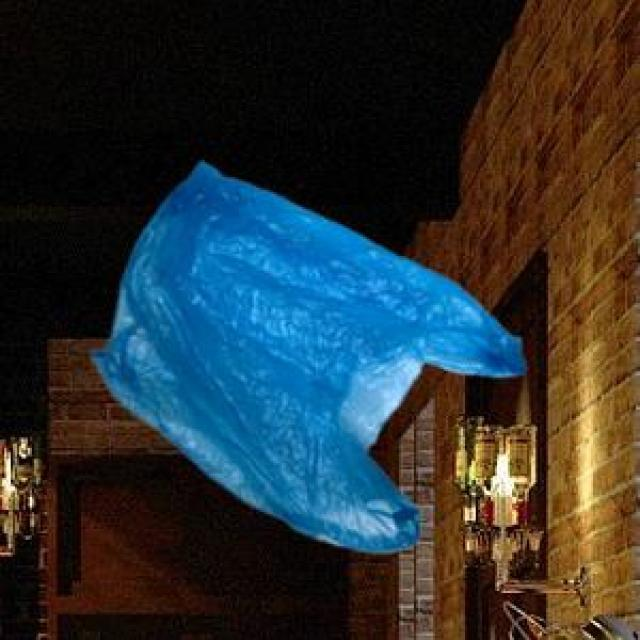Bolsa-de-nilon: (94, 162, 525, 553)
